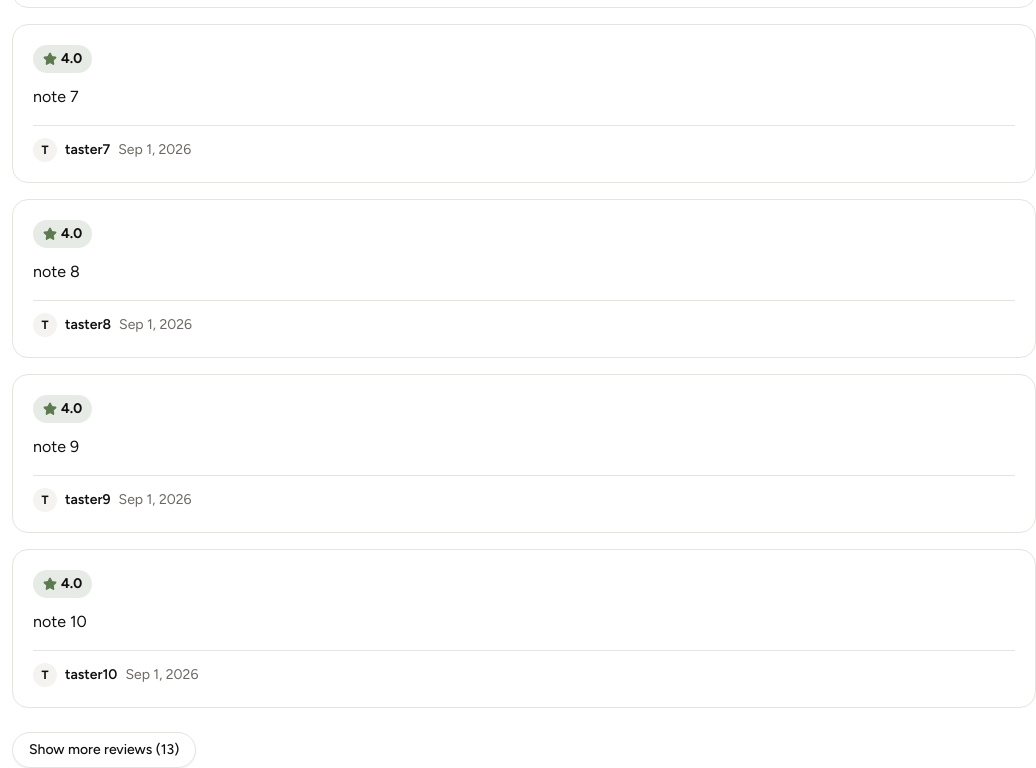
ReviewList › shows 10 reviews at a time with a load-more button
(page scrolled)
Click the button "Show more reviews (13)": (104, 750) [12,732,196,767]
(page scrolled)
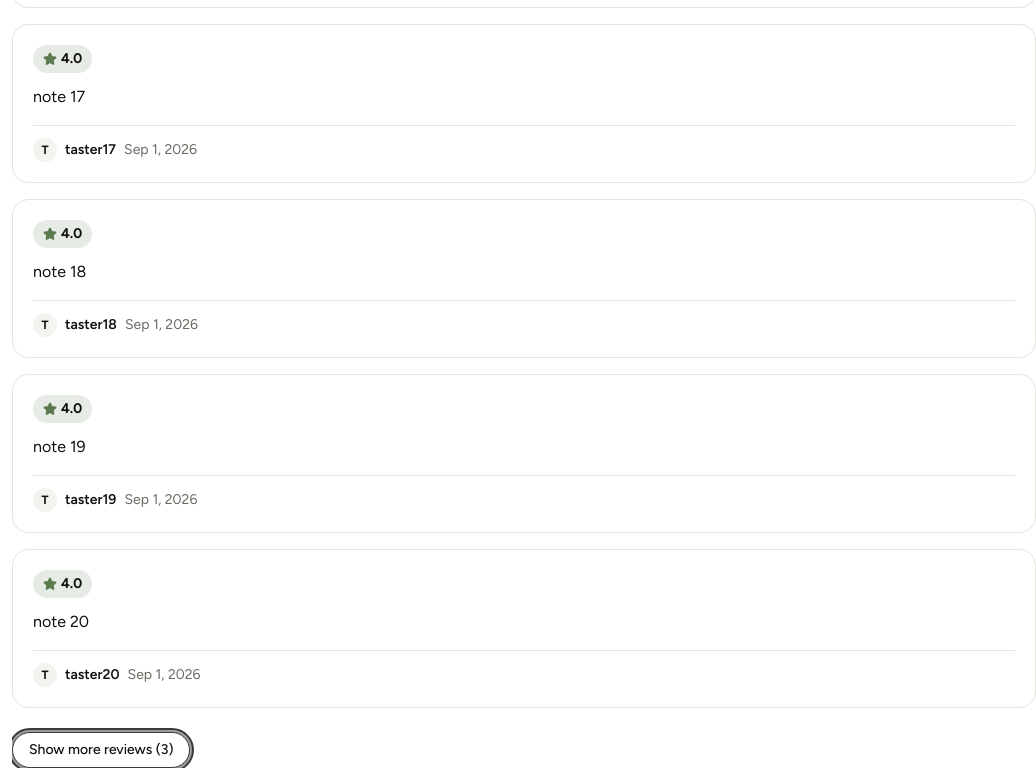
Click the button "Show more reviews (3)": (101, 750) [12,732,190,767]
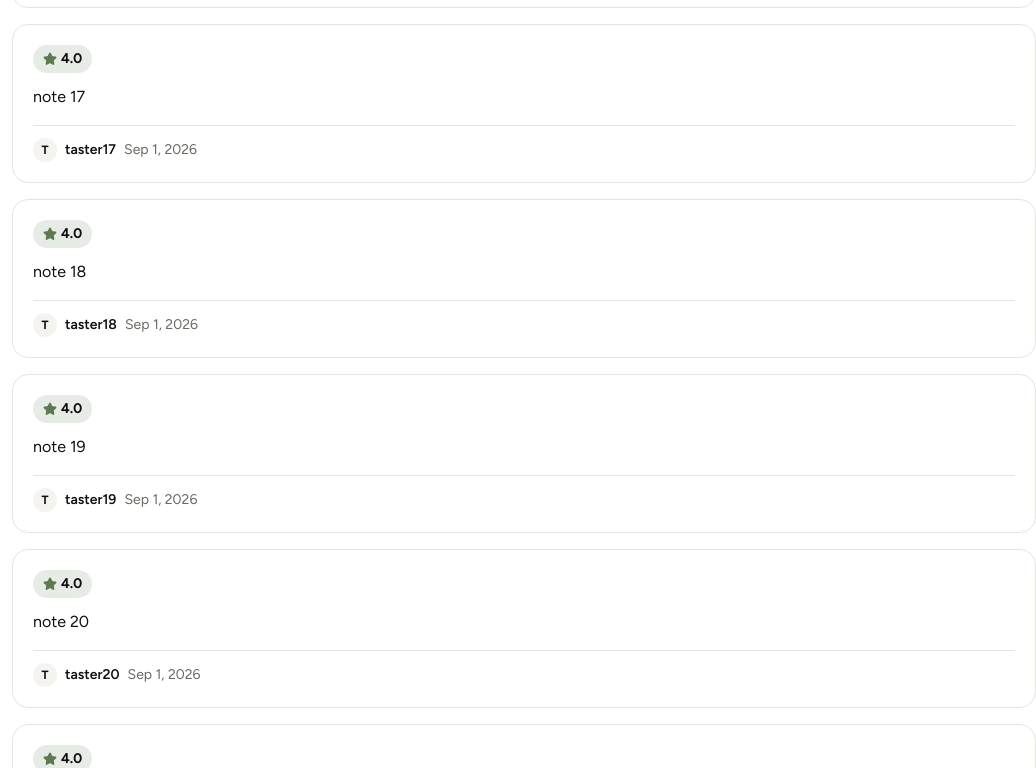
Now the button "Show more reviews" is gone
